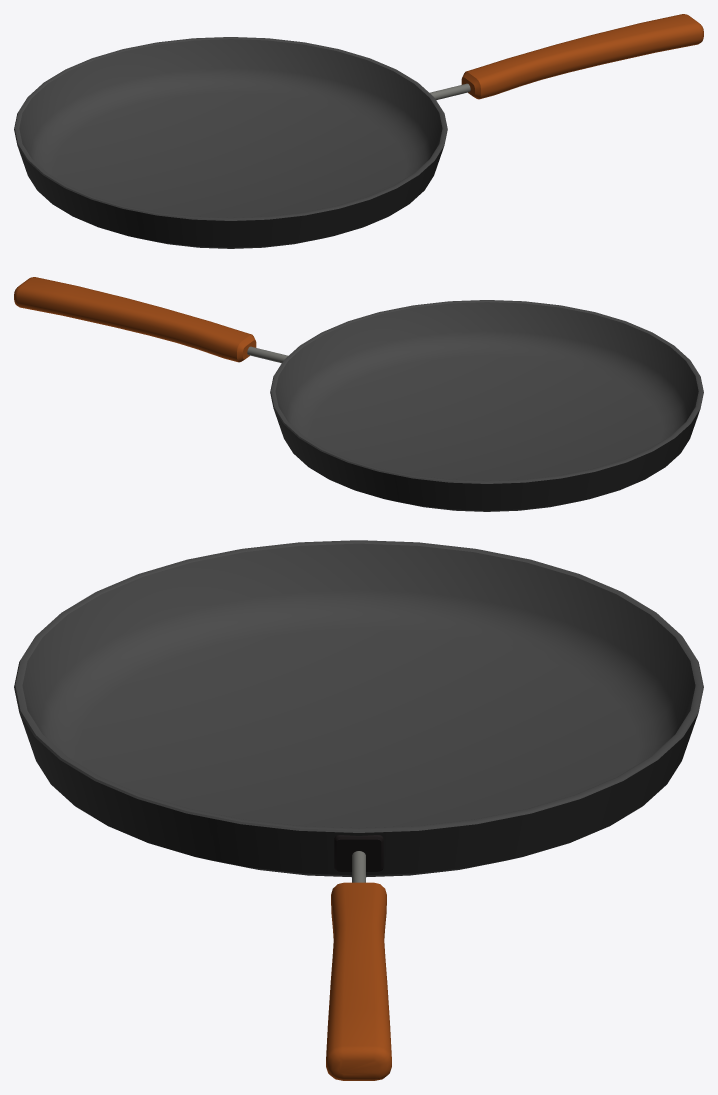
The model's file is Pan.fbx.
3 renders of one model, top to bottom at view 1: azimuth 30°, elevation 25°; view 2: azimuth 150°, elevation 25°; view 3: azimuth 270°, elevation 25°, orthographic. The views are drawn at different scales.
Parts seen in each view (by area): view 1: Pan; view 2: Pan; view 3: Pan.
Part boxes in pixels (x1,y1,x2,y2): Pan: (14,14,703,248); Pan: (14,277,703,511); Pan: (14,540,703,1080).
Bounding box in the file's own units: 142 × 10.3 × 81.6.
1 material, 1 textured.
